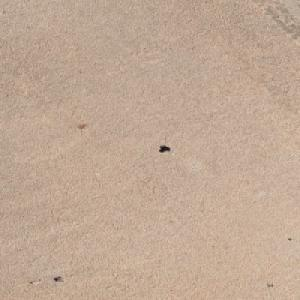BoltWasher: (158, 145, 167, 151)
